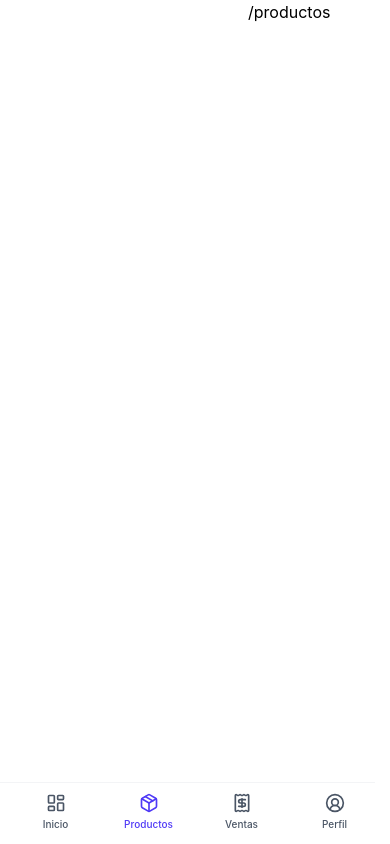
Test case: Arrastre de izquierda a derecha para abrir el panel (#437) › el colaborador también puede abrirlo arrastrando y ve solo sus pantallas
Press the mouse on the element showing "Inicio Productos Ventas Perfil /productos" at (188,12), box [0,0,375,24]
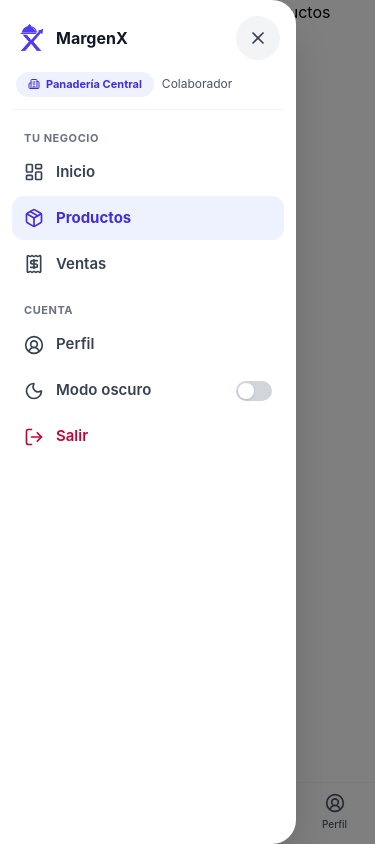
Expected: the links read "Inicio", "Productos", "Ventas", "Perfil", in this order, [24,162,95,182]; [12,196,284,240]; [24,254,106,274]; [24,334,94,355]
Expected: the text "Colaborador" is shown, [162,76,232,92]
